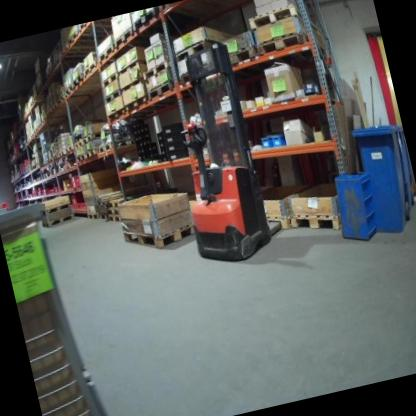pallet: (122, 216, 197, 256), (289, 205, 342, 240), (247, 2, 300, 30), (257, 29, 309, 56), (173, 36, 219, 63), (130, 8, 161, 32), (141, 59, 173, 81), (146, 79, 176, 101), (117, 57, 148, 77), (228, 45, 257, 66), (41, 212, 76, 229), (112, 26, 136, 48), (40, 201, 72, 217), (120, 76, 146, 95), (124, 95, 150, 112), (96, 44, 118, 63), (100, 71, 121, 90), (81, 131, 105, 145), (106, 106, 127, 122), (81, 60, 100, 77), (104, 88, 123, 104), (66, 28, 82, 46), (70, 73, 85, 88), (84, 148, 101, 160), (106, 198, 124, 209), (107, 212, 121, 224), (97, 142, 113, 152), (106, 206, 120, 217), (63, 84, 75, 96), (73, 140, 84, 151), (76, 153, 87, 162), (88, 212, 98, 221), (78, 22, 88, 31), (100, 212, 110, 221), (57, 149, 66, 158), (50, 103, 59, 112), (64, 145, 74, 153), (45, 109, 53, 118), (36, 122, 43, 129), (36, 162, 40, 167)
pallet_truck: (150, 33, 289, 273)
small_load_carrier: (271, 133, 286, 147), (261, 135, 272, 148)
stillage: (0, 189, 115, 416)
